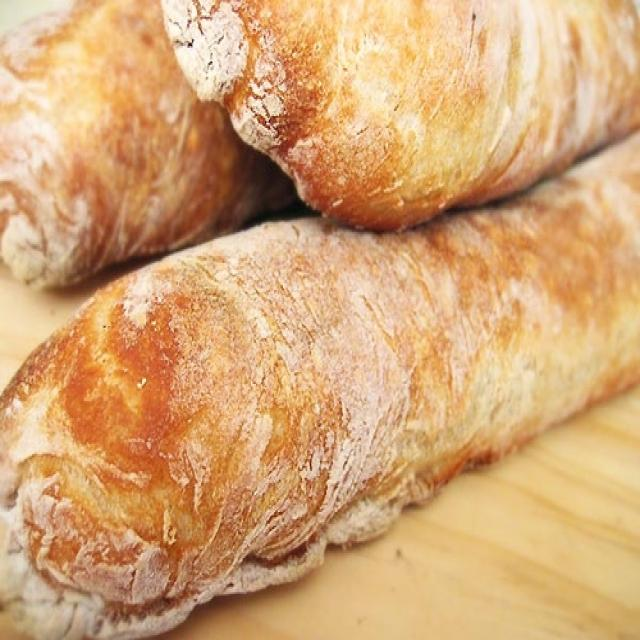面包点心: (4, 5, 631, 626)
